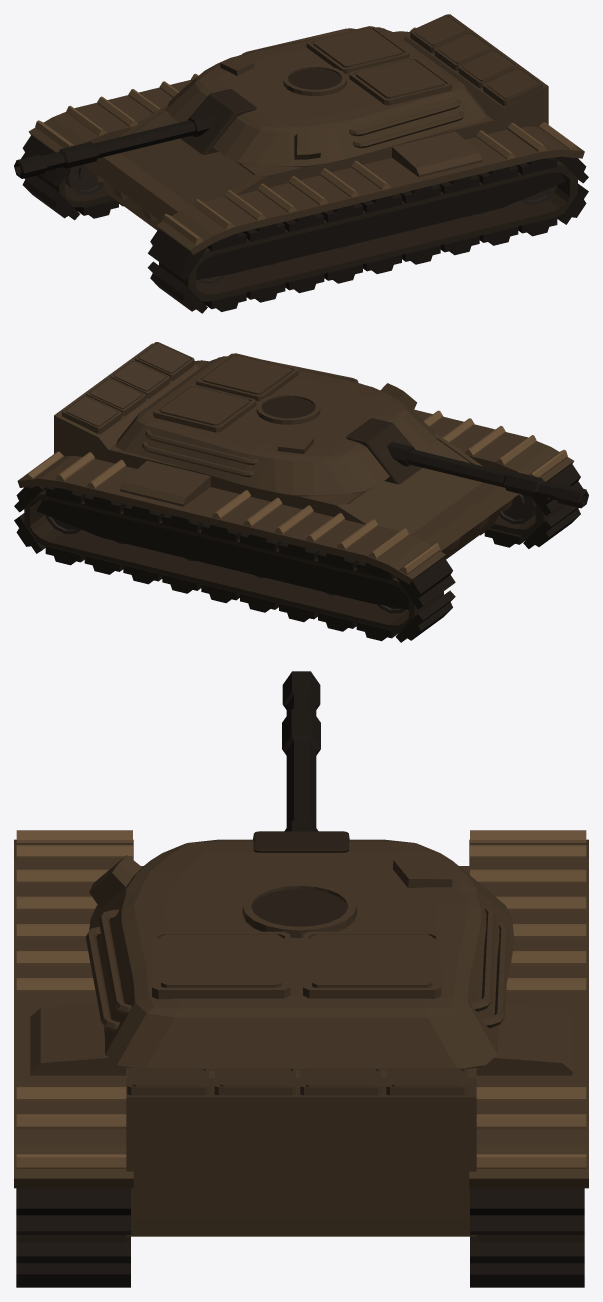
File: Tank2.obj
3 views of the same model, one above another, from view 1: azimuth 30°, elevation 25°; view 2: azimuth 150°, elevation 25°; view 3: azimuth 270°, elevation 25° (orthographic). The views are drawn at different scales.
Visible parts, largest first — view 1: Tank_body_Cube.009, Tank_Turret_Cube, TrackMesh.L_Cube.051, Tank_Gun_Cube.012, TrackMesh.R_Cube.000; view 2: Tank_body_Cube.009, Tank_Turret_Cube, TrackMesh.R_Cube.000, Tank_Gun_Cube.012, TrackMesh.L_Cube.051; view 3: Tank_body_Cube.009, Tank_Turret_Cube, TrackMesh.R_Cube.000, TrackMesh.L_Cube.051, Tank_Gun_Cube.012.
Part boxes in pixels (x1,y1,x2,y2): Tank_body_Cube.009: [28, 14, 584, 301]; Tank_Turret_Cube: [166, 26, 486, 167]; TrackMesh.L_Cube.051: [147, 156, 588, 313]; Tank_Gun_Cube.012: [14, 112, 215, 178]; TrackMesh.R_Cube.000: [21, 135, 123, 220]; Tank_body_Cube.009: [17, 342, 573, 630]; Tank_Turret_Cube: [115, 353, 436, 496]; TrackMesh.R_Cube.000: [14, 486, 455, 642]; Tank_Gun_Cube.012: [387, 441, 588, 508]; TrackMesh.L_Cube.051: [480, 464, 582, 548]; Tank_body_Cube.009: [14, 830, 588, 1242]; Tank_Turret_Cube: [85, 831, 513, 1069]; TrackMesh.R_Cube.000: [470, 1188, 584, 1287]; TrackMesh.L_Cube.051: [16, 1188, 130, 1287]; Tank_Gun_Cube.012: [282, 671, 320, 831].
Size of the model in its own units: 17.68 by 4.62 by 10.09.
